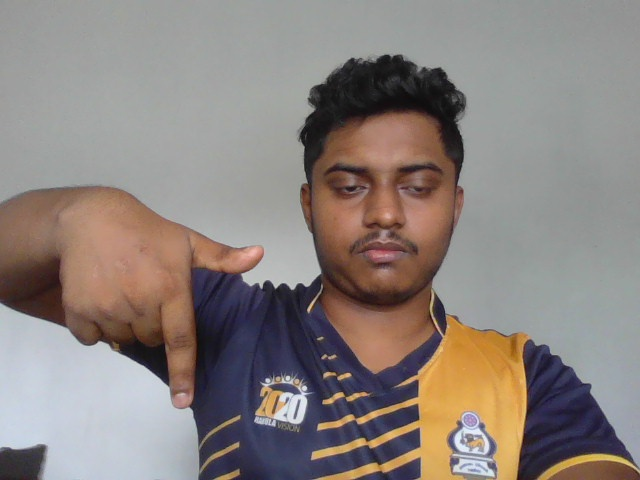Later: (58, 228, 265, 409)
